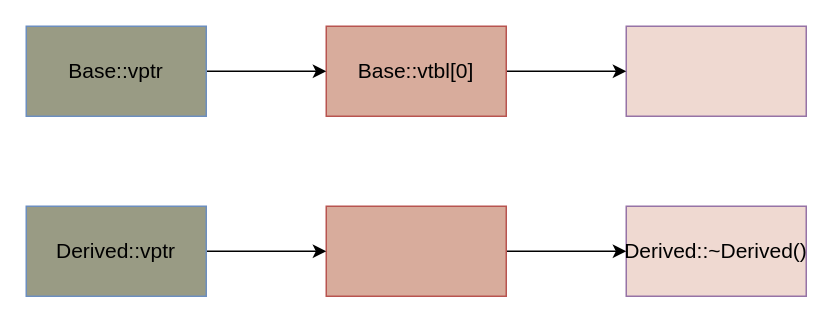
The diagram is 834 pixels wide and 323 high, and some of its shapes have lost their labels. The centre of each missing label's shape, as x and y in pixels:
"Base::~Base()" goes at (x=715, y=70).
"Derived::vtbl[0]" goes at (x=415, y=250).
